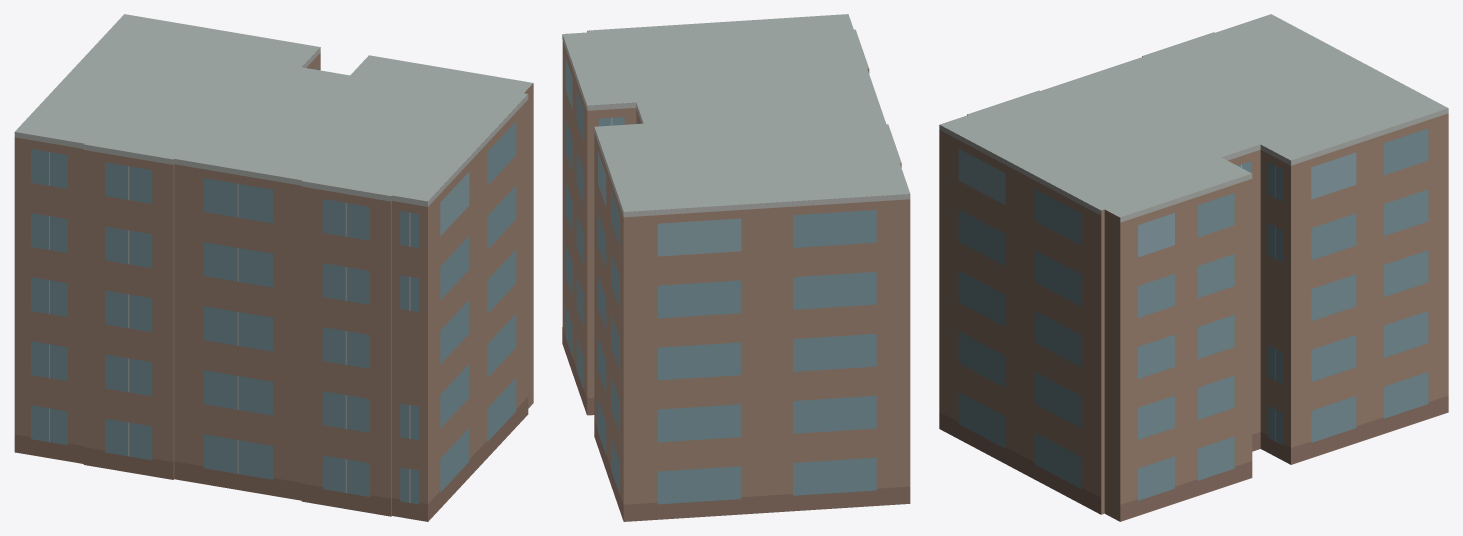
File: survey-upis-32951373.glb
3 views of the same model, side by side, from view 1: azimuth 30°, elevation 25°; view 2: azimuth 150°, elevation 25°; view 3: azimuth 270°, elevation 25° (orthographic). The views are drawn at different scales.
Parts seen in each view (by area): view 1: survey-upis-32951373.tmp; view 2: survey-upis-32951373.tmp; view 3: survey-upis-32951373.tmp.
Boxes of the visible parts, <box> form: survey-upis-32951373.tmp: <box>14,14,533,521</box>; survey-upis-32951373.tmp: <box>562,14,910,521</box>; survey-upis-32951373.tmp: <box>939,14,1448,521</box>.
Bounding box in the file's own units: 20.68 × 14.4 × 21.84.
